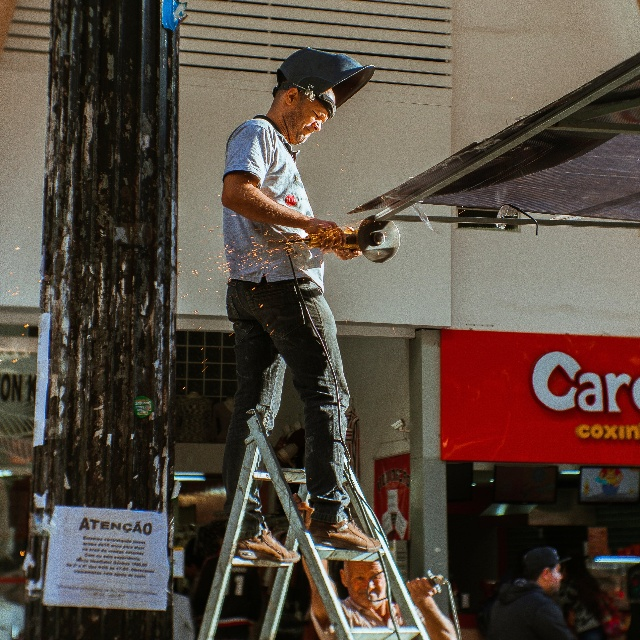Sin_guantes: (304, 215, 347, 252), (334, 226, 362, 261)
